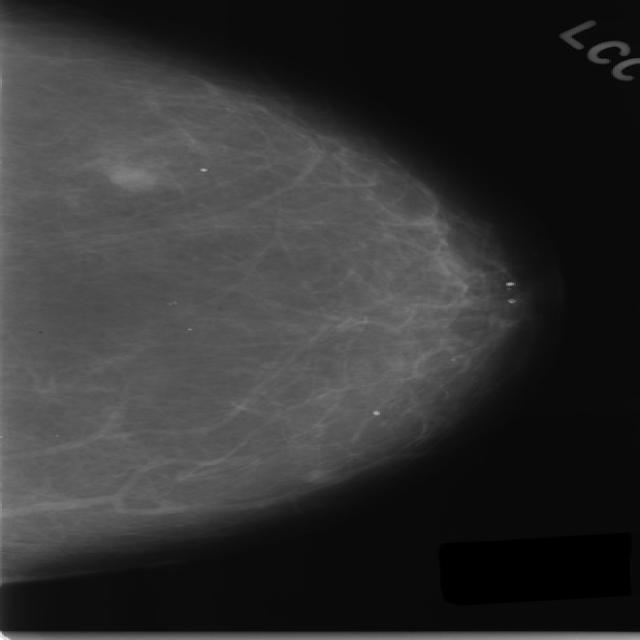tumour: (101, 163, 157, 188)
